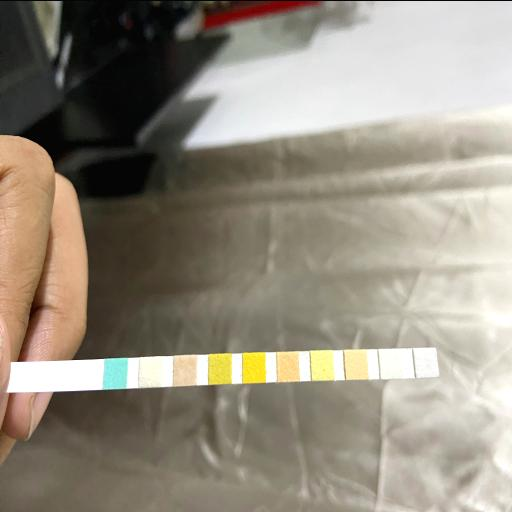Bilirubin: (139, 358, 163, 386)
Blood: (244, 354, 266, 382)
Glucose: (106, 358, 128, 388)
Ketone: (173, 355, 197, 385)
Leukocytes: (416, 348, 436, 376)
Nitrite: (380, 349, 402, 377)
Protein: (312, 350, 332, 380)
SpGravity: (210, 354, 232, 382)
Urobilinogen: (346, 350, 367, 378)
pH: (277, 352, 299, 380)
strip: (12, 347, 439, 392)
